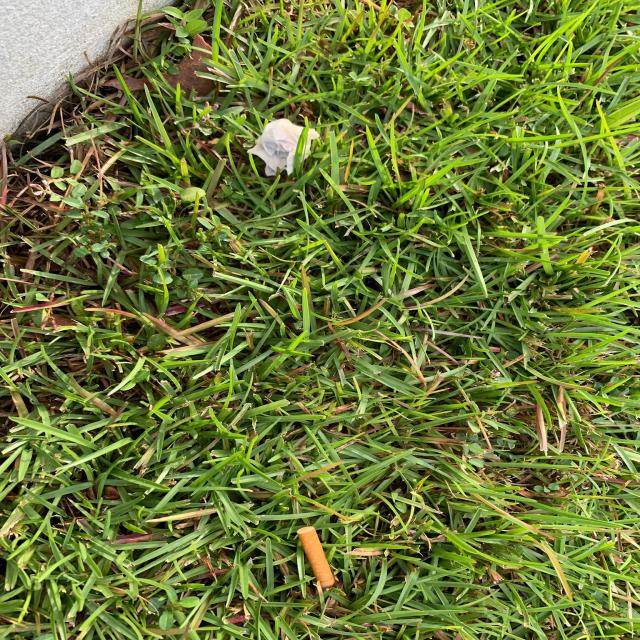litter: (251, 120, 325, 179), (298, 529, 335, 587)
